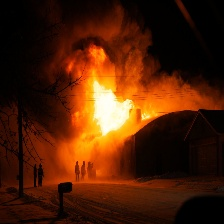fire: (85, 75, 140, 138)
smoke: (40, 15, 220, 106)
